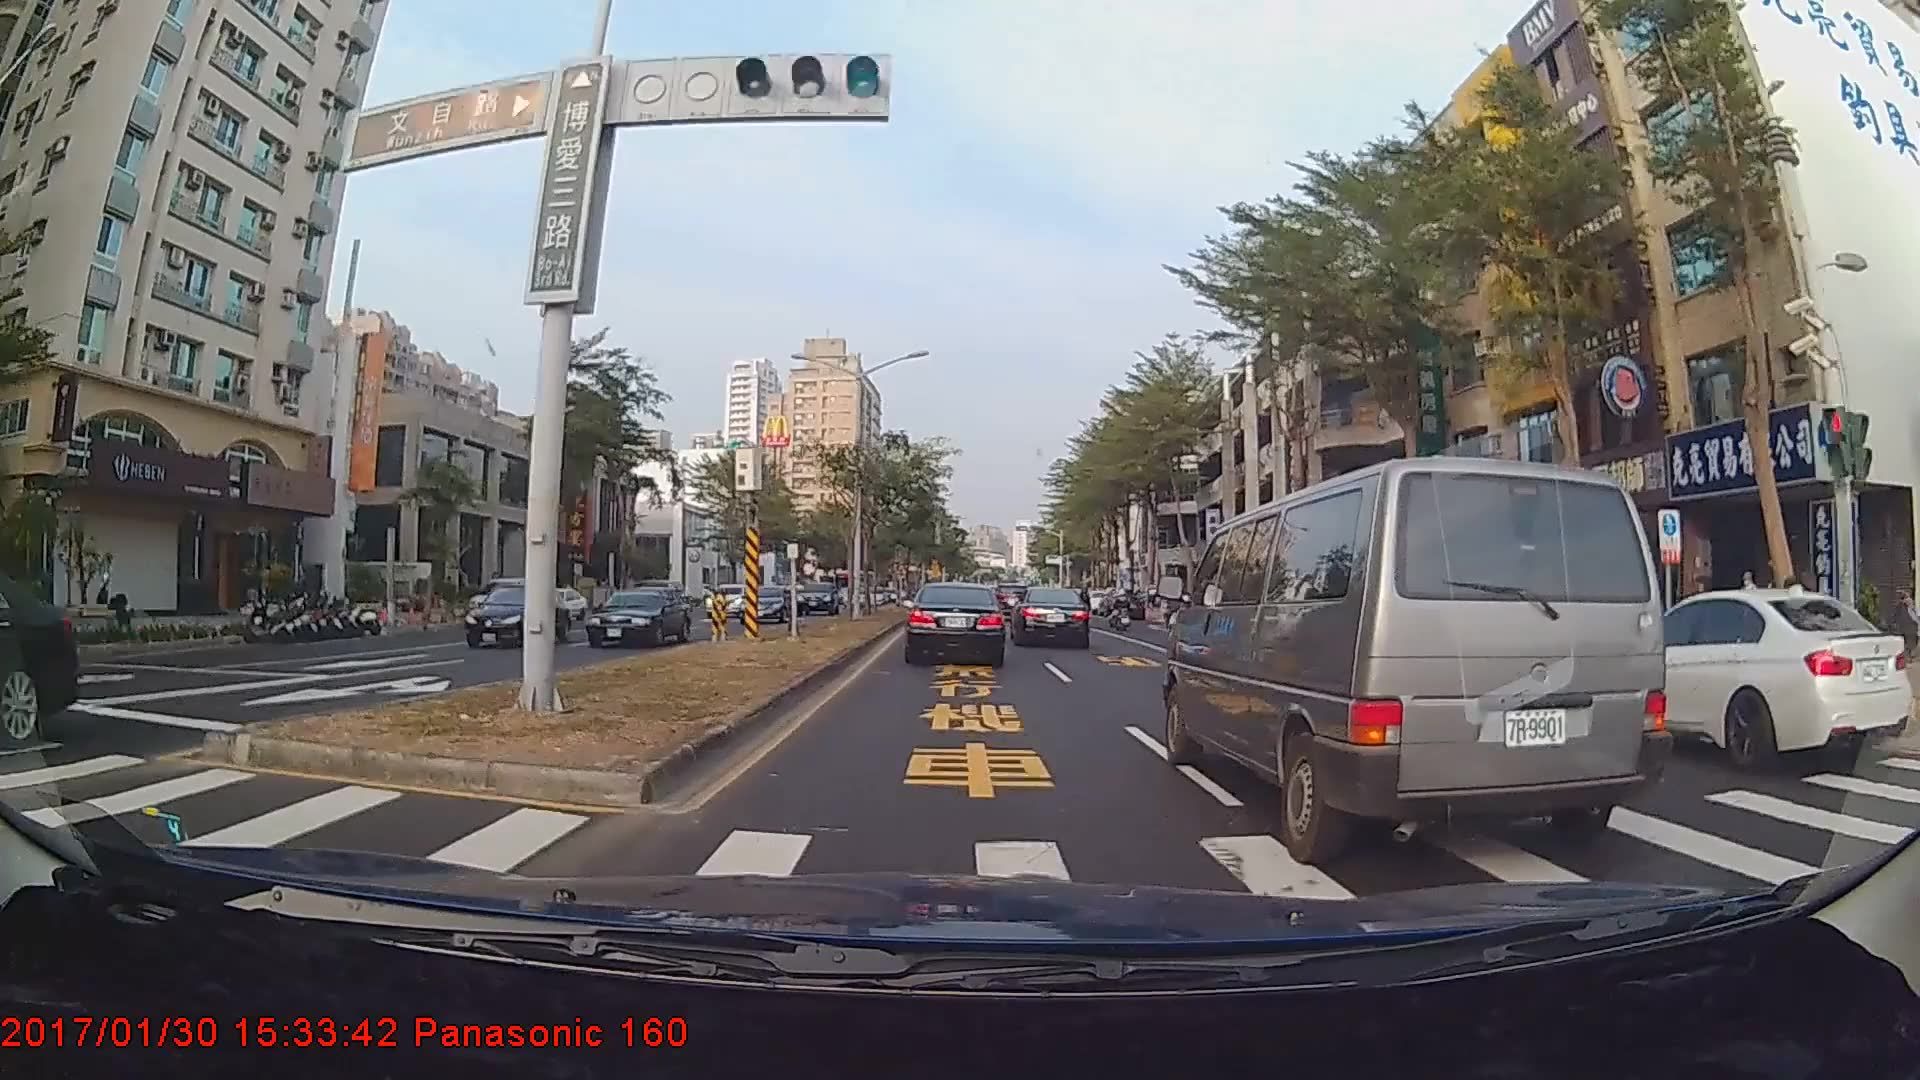vehicle: (1174, 450, 1671, 858), (1589, 584, 1913, 770), (0, 550, 82, 750), (905, 583, 1007, 666), (462, 582, 572, 647), (582, 585, 688, 649), (1011, 585, 1091, 647), (736, 584, 791, 621), (703, 582, 752, 618), (794, 582, 839, 616)
